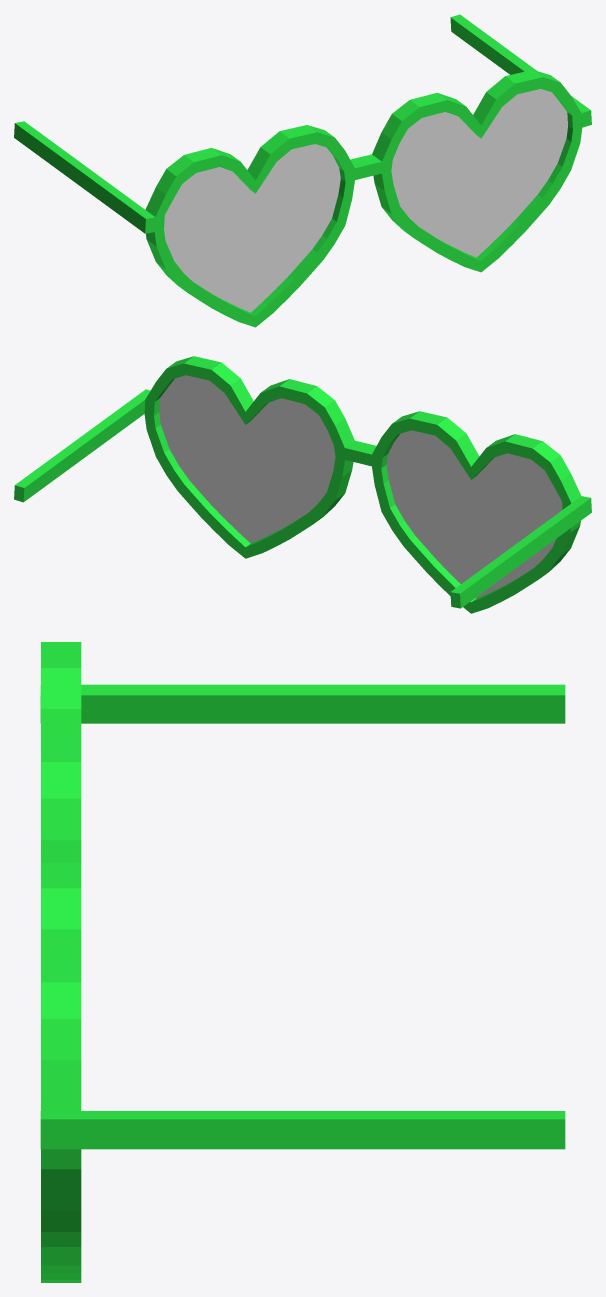
File: glasses_w_lens.fbx
3 views of the same model, one above another, from view 1: azimuth 30°, elevation 25°; view 2: azimuth 150°, elevation 25°; view 3: azimuth 270°, elevation 25° (orthographic). The views are drawn at different scales.
Parts seen in each view (by area): view 1: lenses, frames; view 2: lenses, frames; view 3: frames.
Boxes of the visible parts, bbox=[...] form: lenses: bbox=[164, 89, 567, 312]; frames: bbox=[14, 14, 591, 327]; lenses: bbox=[159, 375, 562, 598]; frames: bbox=[14, 356, 591, 613]; frames: bbox=[40, 642, 565, 1282].
Bounding box in the file's own units: 102 × 39.41 × 51.85.
